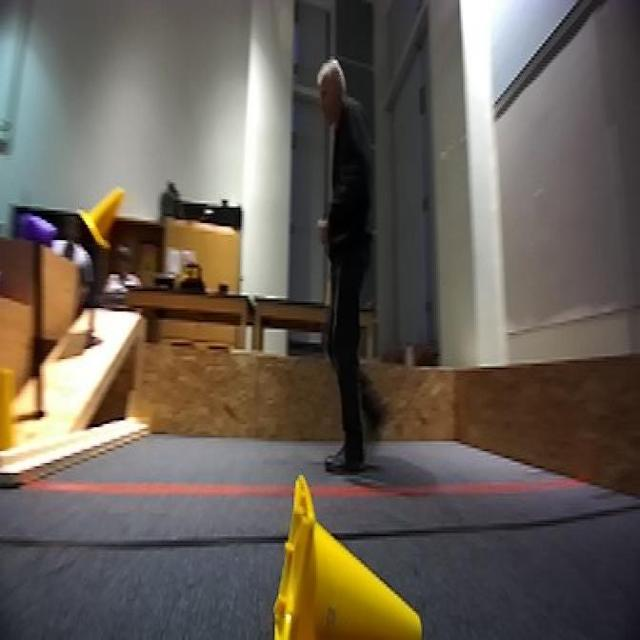frc_cone: (272, 468, 432, 640), (76, 182, 128, 254)
frc_cube: (18, 213, 56, 248)
